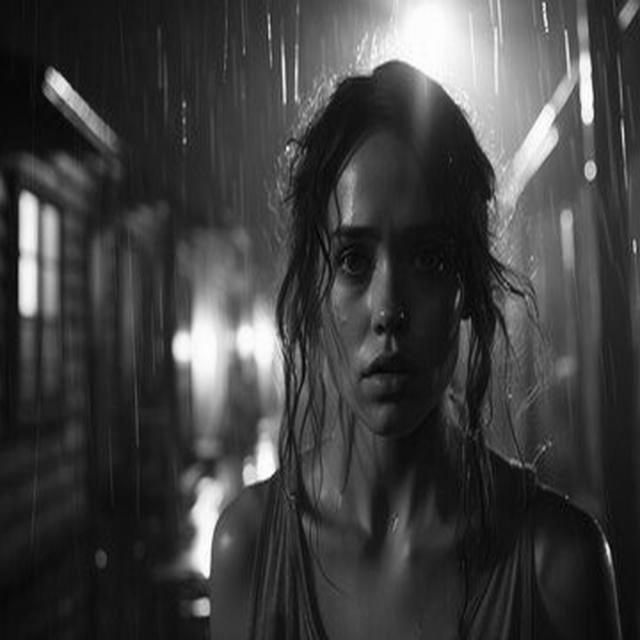Fear: (320, 134, 462, 436)
